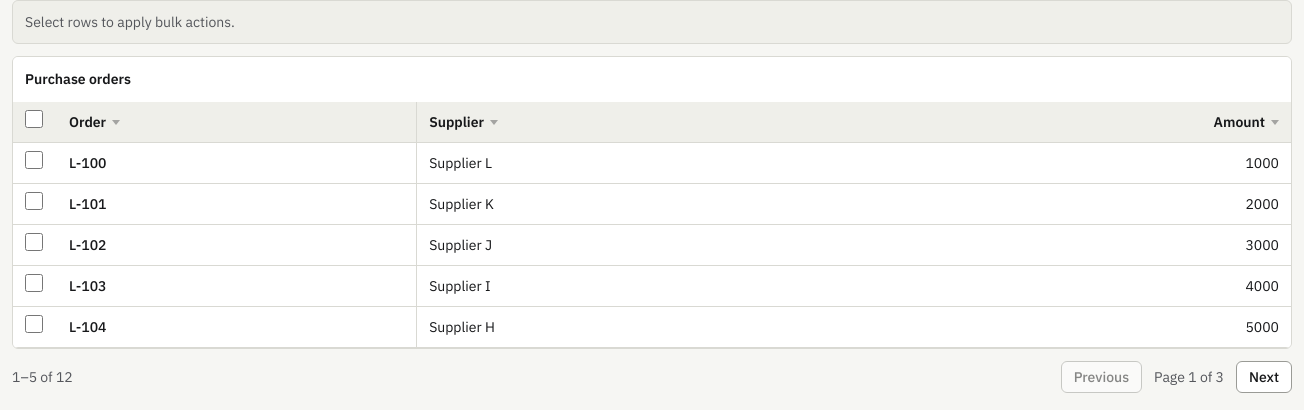
BulkActionTable › sorts by a column and exposes aria-sort
Click the button "Amount". click: (1246, 122)
box: top-left (1214, 112), bottom-right (1279, 132)
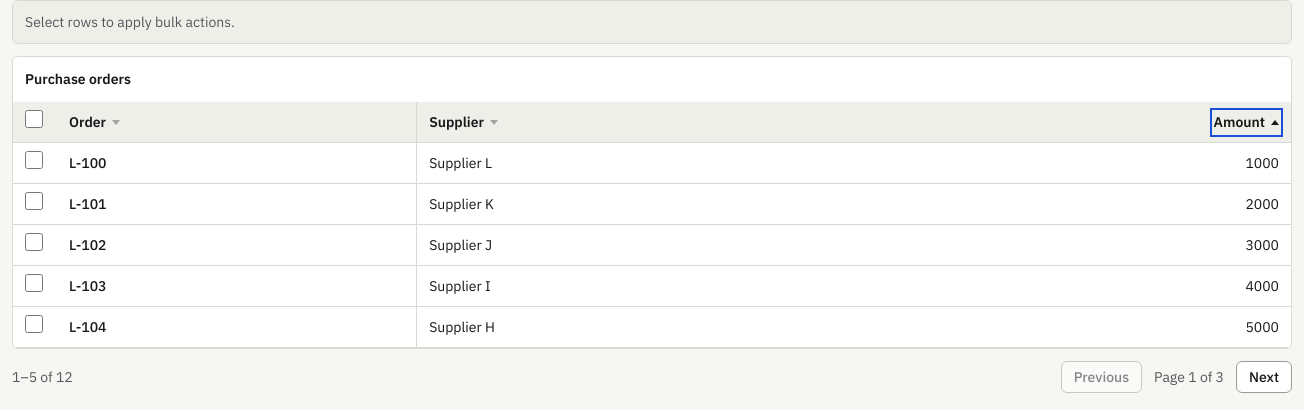
Expected: the column heading "Amount" has attribute aria-sort="ascending", top-left (862, 102), bottom-right (1291, 143)
Click the button "Amount". click: (1246, 122)
box: top-left (1214, 112), bottom-right (1279, 132)
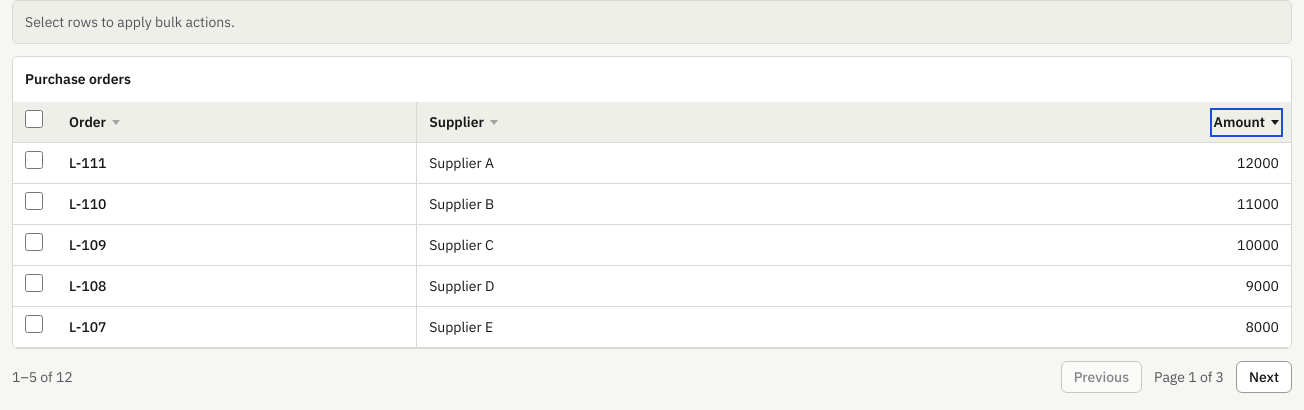
Expected: the column heading "L-111" is shown, top-left (57, 143), bottom-right (417, 184)
